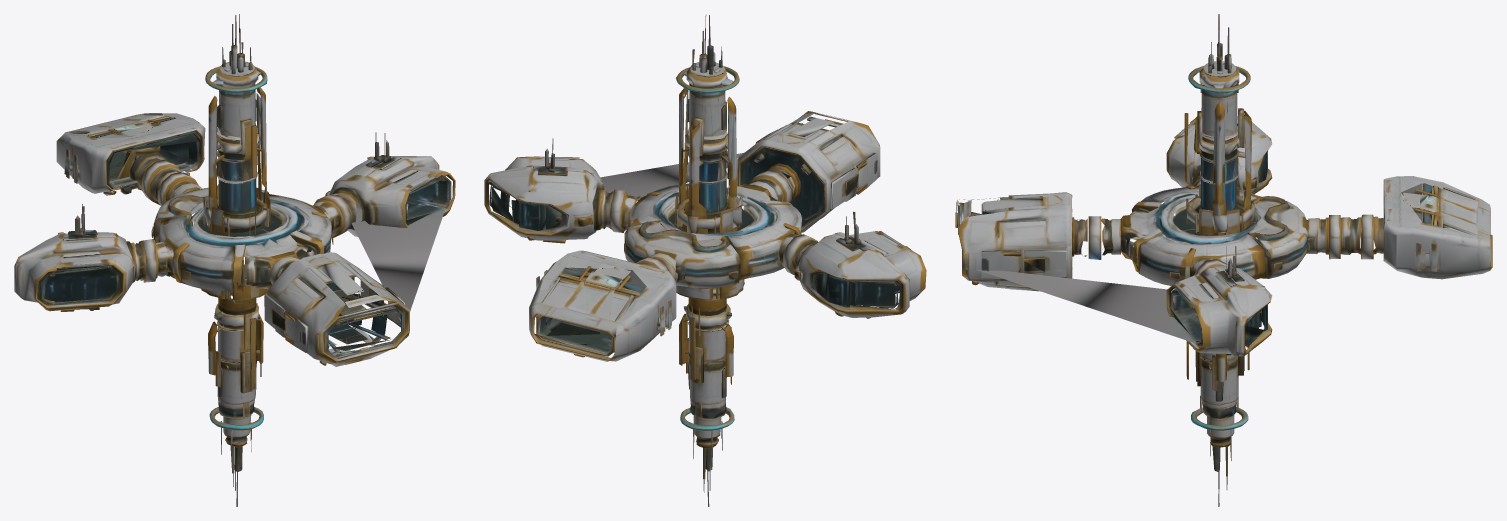
Rendered from station-europa.glb.
3 renders of one model, left to right at view 1: azimuth 30°, elevation 25°; view 2: azimuth 150°, elevation 25°; view 3: azimuth 270°, elevation 25°, orthographic.
Visible parts, largest first — view 1: geometry_0; view 2: geometry_0; view 3: geometry_0.
Boxes of the visible parts, x1=… form: geometry_0: x1=14, y1=14, x2=455, y2=506; geometry_0: x1=484, y1=14, x2=926, y2=506; geometry_0: x1=955, y1=14, x2=1492, y2=506.
Bounding box in the file's own units: 273 × 303 × 300.
1 material, 1 textured.
